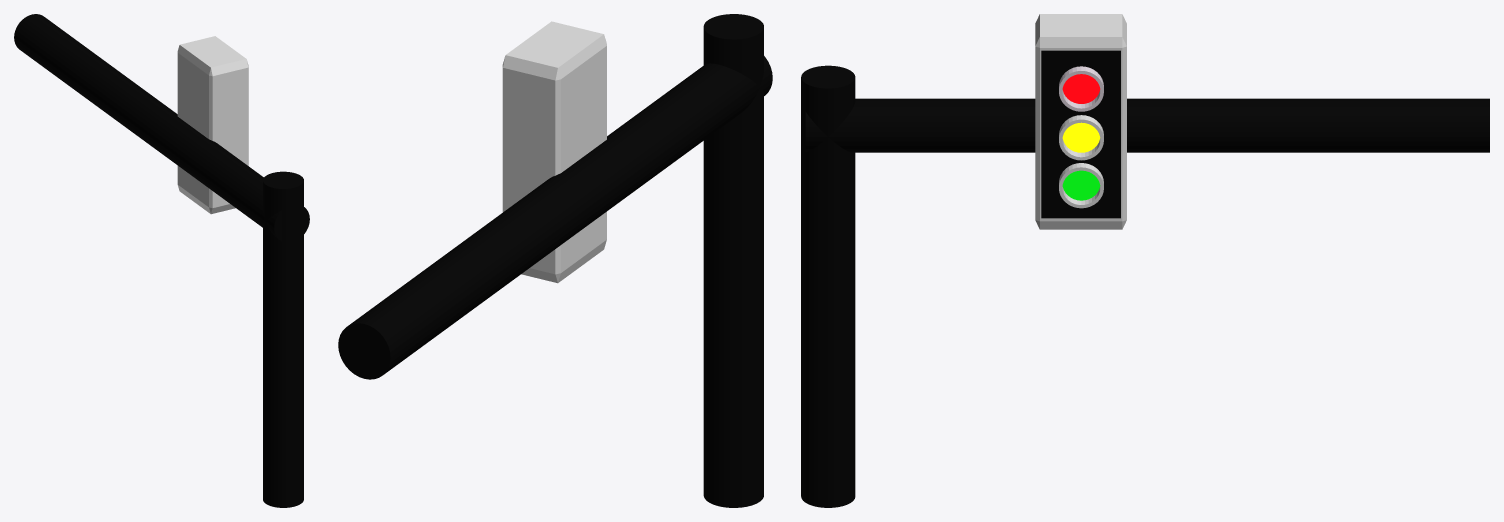
File: EGB_traffic_light_2.fbx
3 renders of one model, left to right at view 1: azimuth 30°, elevation 25°; view 2: azimuth 150°, elevation 25°; view 3: azimuth 270°, elevation 25°, orthographic. The views are drawn at different scales.
Visible parts, largest first — view 1: Cylinder, Cylinder.001, Cube; view 2: Cylinder.001, Cylinder, Cube; view 3: Cylinder.001, Cylinder, Cube, redLight, greenLight, yellowLight, cone2, cone3, cone1.
Boxes of the visible parts, x1,y1,x2,y2 form: Cylinder: (263, 171, 303, 507); Cylinder.001: (14, 14, 309, 241); Cube: (177, 36, 248, 214); Cylinder.001: (338, 56, 772, 379); Cylinder: (703, 14, 763, 507); Cube: (502, 21, 606, 283); Cylinder.001: (805, 98, 1489, 152); Cylinder: (801, 65, 855, 507); Cube: (1035, 14, 1126, 229); redLight: (1062, 74, 1100, 103); greenLight: (1062, 170, 1100, 200); yellowLight: (1062, 122, 1100, 152); cone2: (1059, 115, 1103, 160); cone3: (1059, 163, 1103, 208); cone1: (1059, 66, 1103, 111).
Size of the model in its own units: 7.1 by 35.7 by 45.7.
